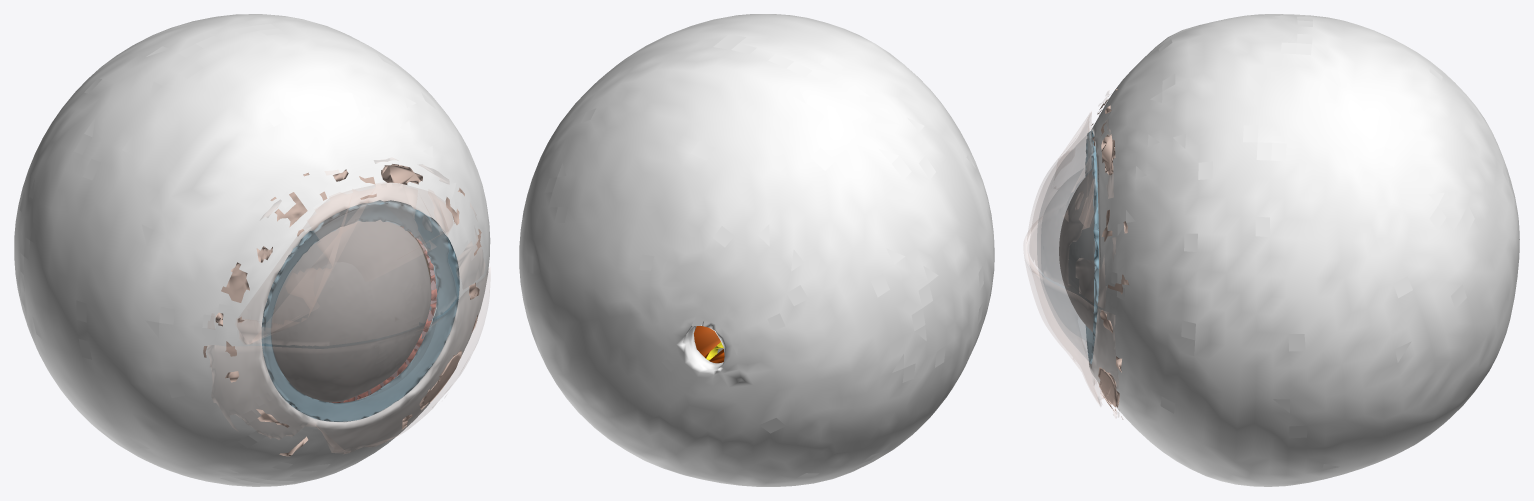
3 views of the same model, side by side, from view 1: azimuth 30°, elevation 25°; view 2: azimuth 150°, elevation 25°; view 3: azimuth 270°, elevation 25° (orthographic).
Visible parts, largest first — view 1: VH_M_sclera_L, VH_M_cornea_L, VH_M_palpebral_conjunctiva_of_upper_eyelid_L, VH_M_palpebral_conjunctiva_of_lower_eyelid_L, VH_M_aqueous_humor_L, VH_M_corneo_scleral_junction_L, VH_M_bulbar_conjunctiva_L, VH_M_ciliary_muscle_L; view 2: VH_M_sclera_L, VH_M_optic_choroid_L; view 3: VH_M_sclera_L, VH_M_cornea_L, VH_M_palpebral_conjunctiva_of_upper_eyelid_L, VH_M_palpebral_conjunctiva_of_lower_eyelid_L, VH_M_aqueous_humor_L, VH_M_bulbar_conjunctiva_L, VH_M_corneo_scleral_junction_L.
Part boxes in pixels (x1,y1,x2,y2): VH_M_sclera_L: [14, 14, 490, 486]; VH_M_cornea_L: [262, 202, 459, 421]; VH_M_palpebral_conjunctiva_of_upper_eyelid_L: [208, 158, 484, 345]; VH_M_palpebral_conjunctiva_of_lower_eyelid_L: [207, 268, 489, 453]; VH_M_aqueous_humor_L: [271, 220, 431, 402]; VH_M_corneo_scleral_junction_L: [261, 200, 459, 421]; VH_M_bulbar_conjunctiva_L: [203, 164, 481, 456]; VH_M_ciliary_muscle_L: [332, 227, 437, 402]; VH_M_sclera_L: [519, 14, 994, 486]; VH_M_optic_choroid_L: [694, 326, 724, 363]; VH_M_sclera_L: [1089, 14, 1519, 486]; VH_M_cornea_L: [1037, 134, 1097, 363]; VH_M_palpebral_conjunctiva_of_upper_eyelid_L: [1027, 91, 1115, 308]; VH_M_palpebral_conjunctiva_of_lower_eyelid_L: [1023, 224, 1119, 417]; VH_M_aqueous_humor_L: [1059, 169, 1095, 332]; VH_M_bulbar_conjunctiva_L: [1091, 88, 1128, 419]; VH_M_corneo_scleral_junction_L: [1085, 130, 1098, 363].
Size of the model in its own units: 0.0245 by 0.0244 by 0.0257.
